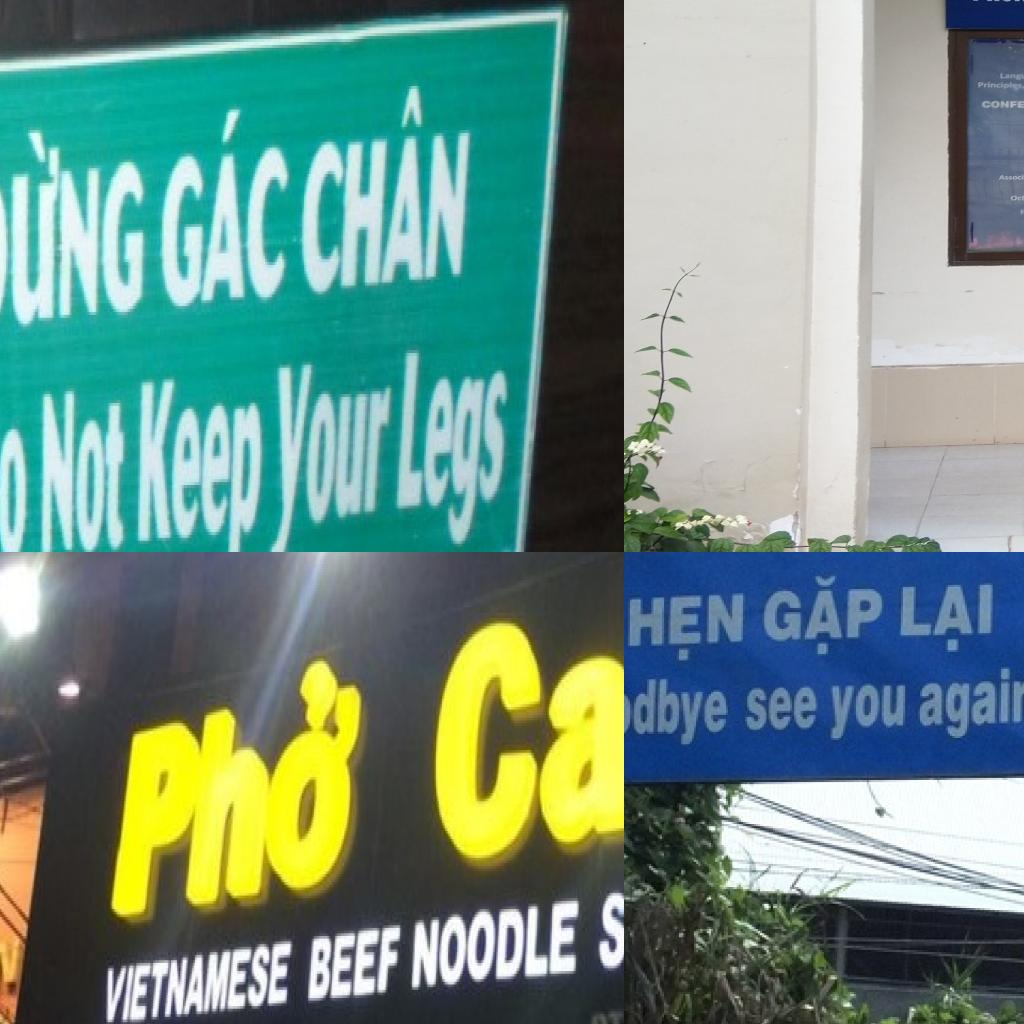text: (102, 634, 382, 944), (425, 552, 624, 890), (299, 74, 478, 300), (0, 118, 150, 338), (159, 100, 292, 320), (392, 341, 514, 552), (265, 359, 397, 552), (134, 370, 268, 552), (406, 893, 585, 1001), (98, 930, 297, 1024), (39, 385, 131, 552), (758, 570, 886, 660), (302, 912, 410, 1011), (624, 585, 751, 667), (897, 572, 999, 656), (624, 670, 732, 748), (822, 680, 914, 746), (0, 394, 33, 552), (743, 681, 824, 738), (592, 871, 624, 979), (0, 925, 26, 1003), (588, 1006, 624, 1024), (980, 99, 1024, 109), (976, 81, 1024, 90), (997, 72, 1024, 81), (996, 174, 1024, 181), (1008, 194, 1024, 202), (1018, 207, 1024, 215)
